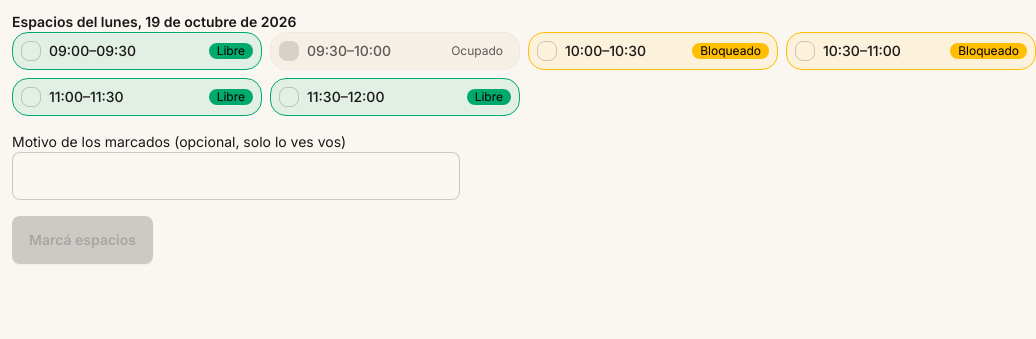
Test case: SlotPicker — US-AGE-07, criterio 3: liberar espacios con el mismo selector › se pueden liberar espacios que no son seguidos del mismo bloqueo o de varios
This screenshot has width=1036, height=339.
Click the checkbox labelled "10:00–10:30 Bloqueado". click: (547, 51)
box: [537,41,557,61]
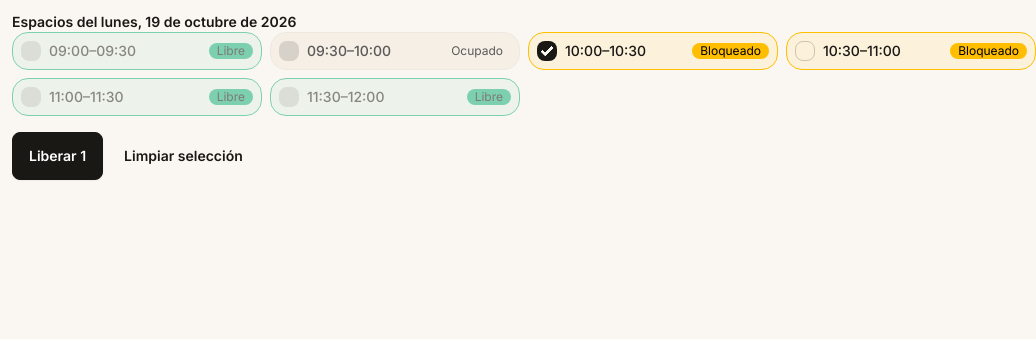
Click the checkbox labelled "10:30–11:00 Bloqueado". click: (805, 51)
box: [795,41,815,61]
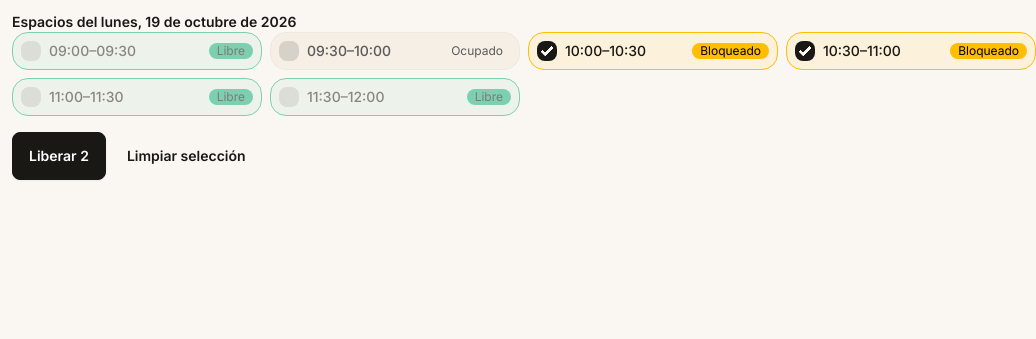
Click the button "Liberar 2". click: (59, 156)
box: [12,132,106,180]
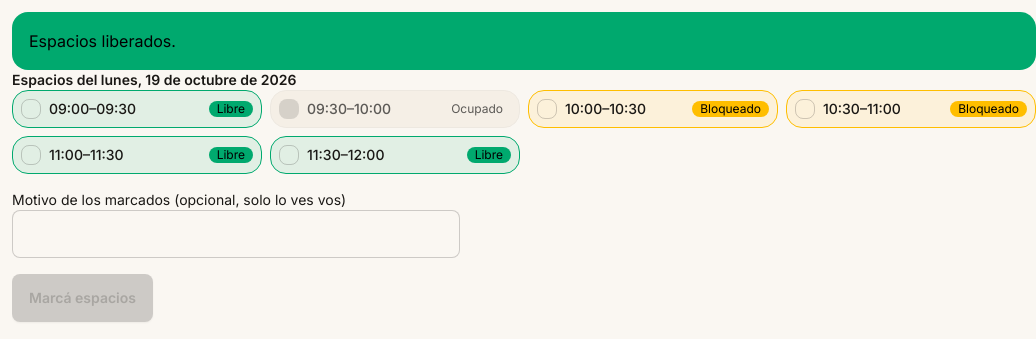
Check: the checkbox labelled "10:00–10:30 Bloqueado" is not checked, box [537,99,557,119]
Check: the message reads "Espacios liberados.", box [29,31,176,51]
